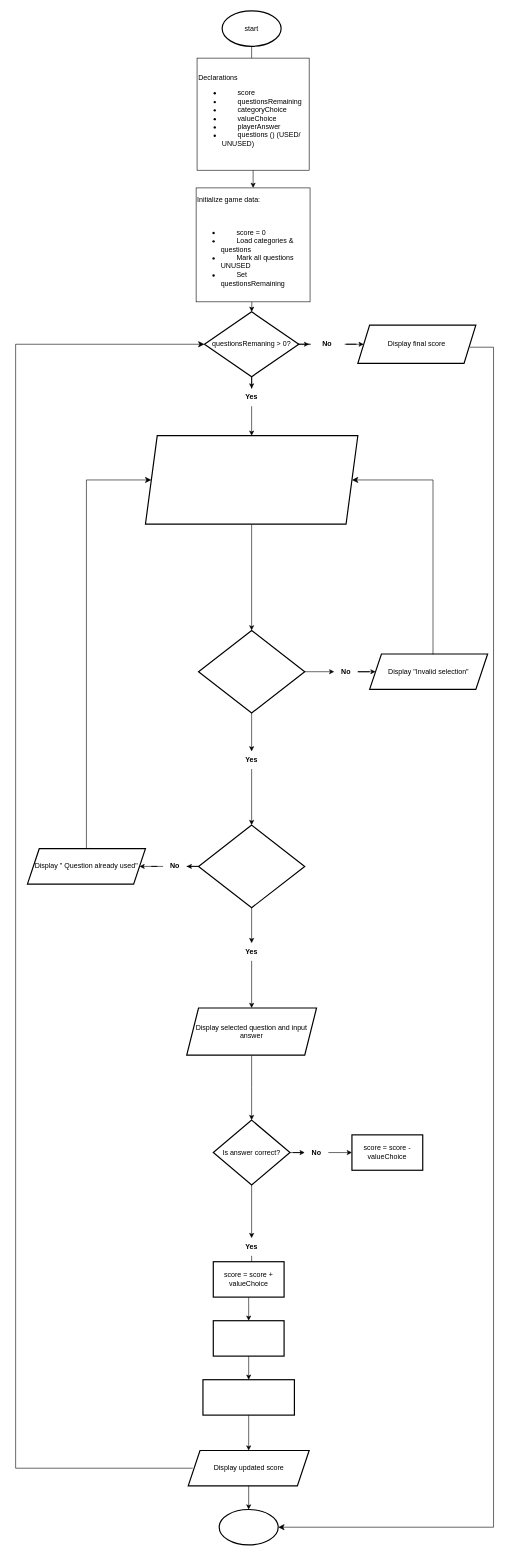
This 510x1555 diagram has some shape labels left out. The shapes that lost their labels are listed below. From the top down, each one's box as (x1, y1, x2, y2) in pixels, then its label:
(145, 435, 358, 525): Display Jeopardy board & input categories + available values
(198, 630, 305, 713): is the selection valid?
(198, 824, 305, 908): Is the question UNUSED?
(212, 1320, 284, 1356): Mark question as USED
(202, 1379, 295, 1415): questionsRemaining = questionsRemaining - 1
(218, 1509, 278, 1545): End
